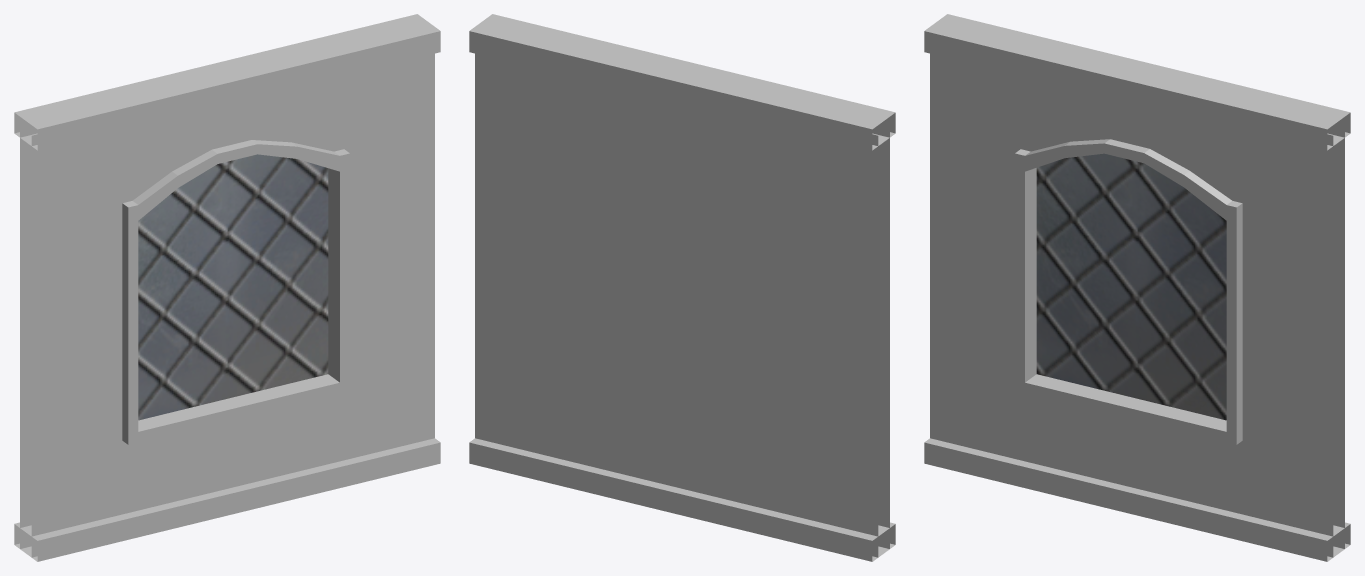
Rendered from Wall_2_2.fbx.
3 views of the same model, side by side, from view 1: azimuth 30°, elevation 25°; view 2: azimuth 150°, elevation 25°; view 3: azimuth 330°, elevation 25° (orthographic).
Parts seen in each view (by area): view 1: polySurface9841; view 2: polySurface9841; view 3: polySurface9841.
Boxes of the visible parts, x1,y1,x2,y2 form: polySurface9841: [14, 14, 440, 561]; polySurface9841: [469, 14, 895, 561]; polySurface9841: [924, 14, 1350, 561].
Bounding box in the file's own units: 4 × 4.1 × 0.4.
